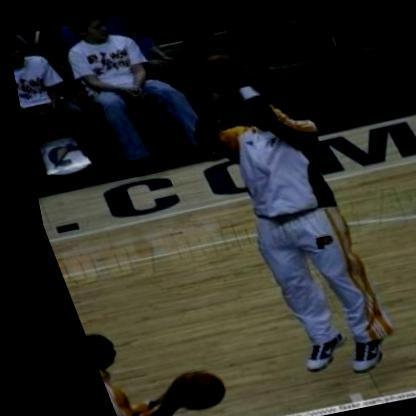basketball: (146, 360, 222, 416), (187, 46, 253, 101)
